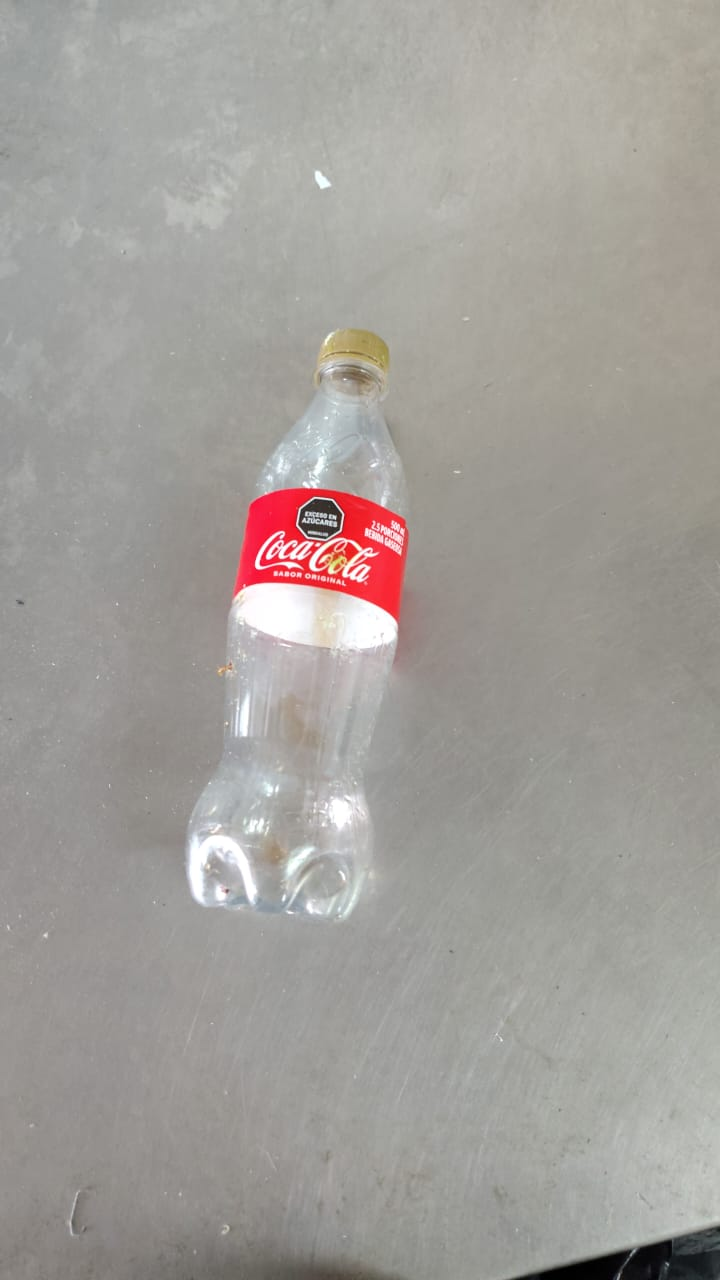Plastico: (186, 330, 411, 925)
